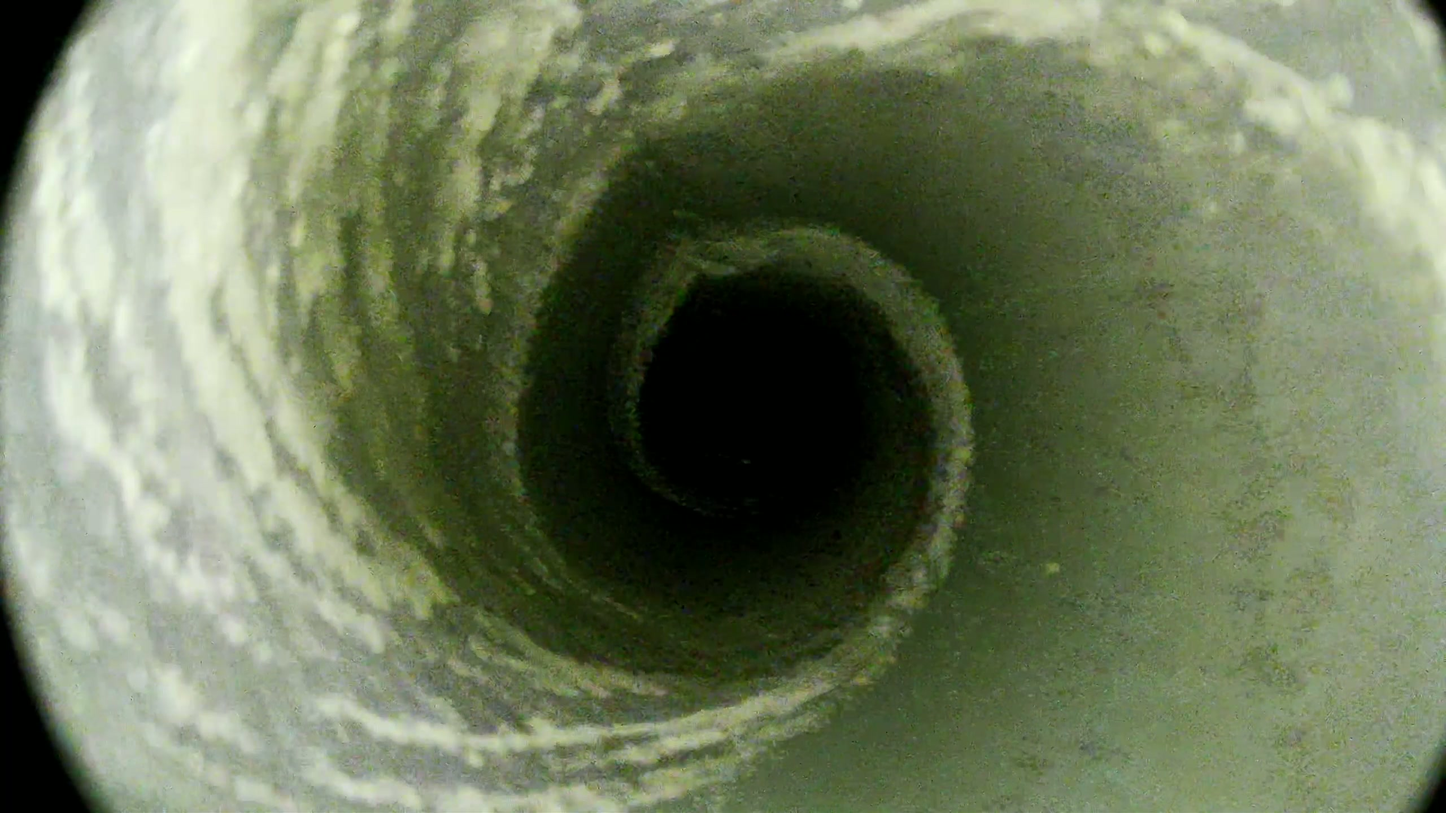hole: (645, 312, 855, 496)
